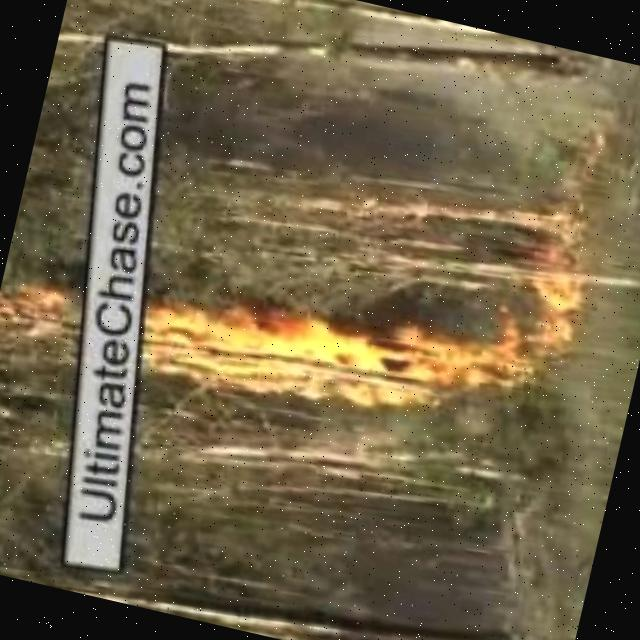fire: (130, 263, 457, 447), (420, 190, 616, 429), (0, 268, 77, 351)
